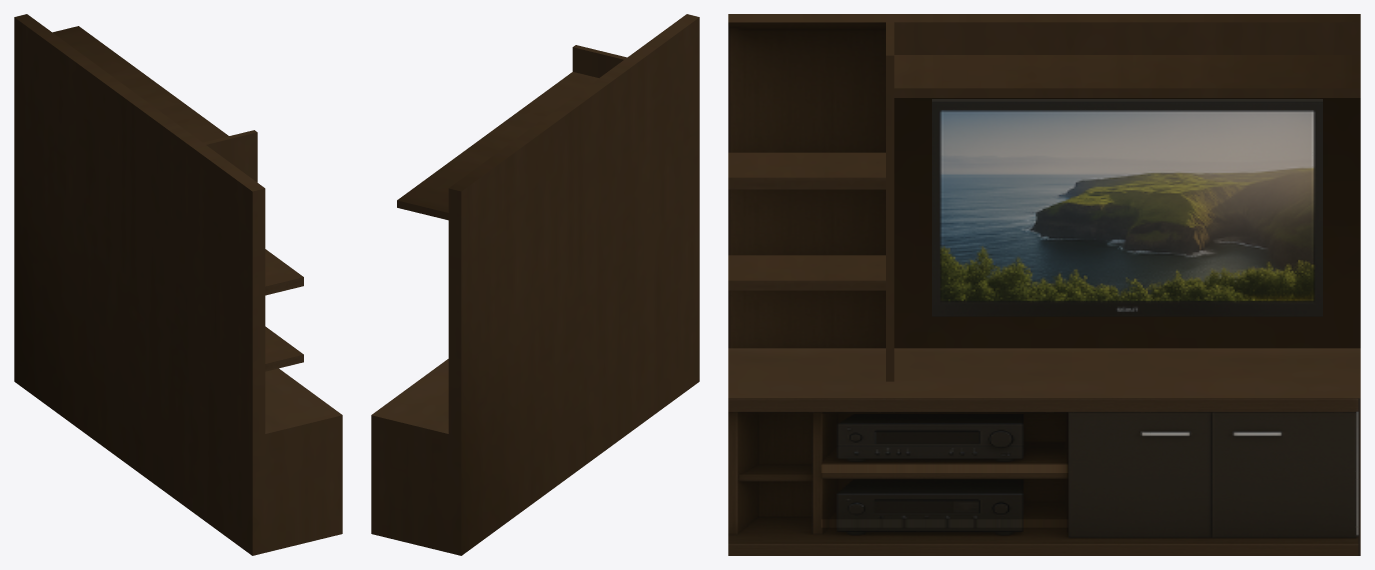
Rendered from Mueble.fbx.
The picture shows the model from 3 angles, left to right: view 1: azimuth 30°, elevation 25°; view 2: azimuth 150°, elevation 25°; view 3: azimuth 270°, elevation 25°; orthographic projection. The views are drawn at different scales.
Visible parts, largest first — view 1: Cube.004; view 2: Cube.004; view 3: Cube.004.
Boxes of the visible parts, <box> form: Cube.004: <box>14,14,342,555</box>; Cube.004: <box>371,14,699,555</box>; Cube.004: <box>728,14,1360,555</box>.
Bounding box in the file's own units: 70 × 270 × 320.
1 material, 1 textured.
